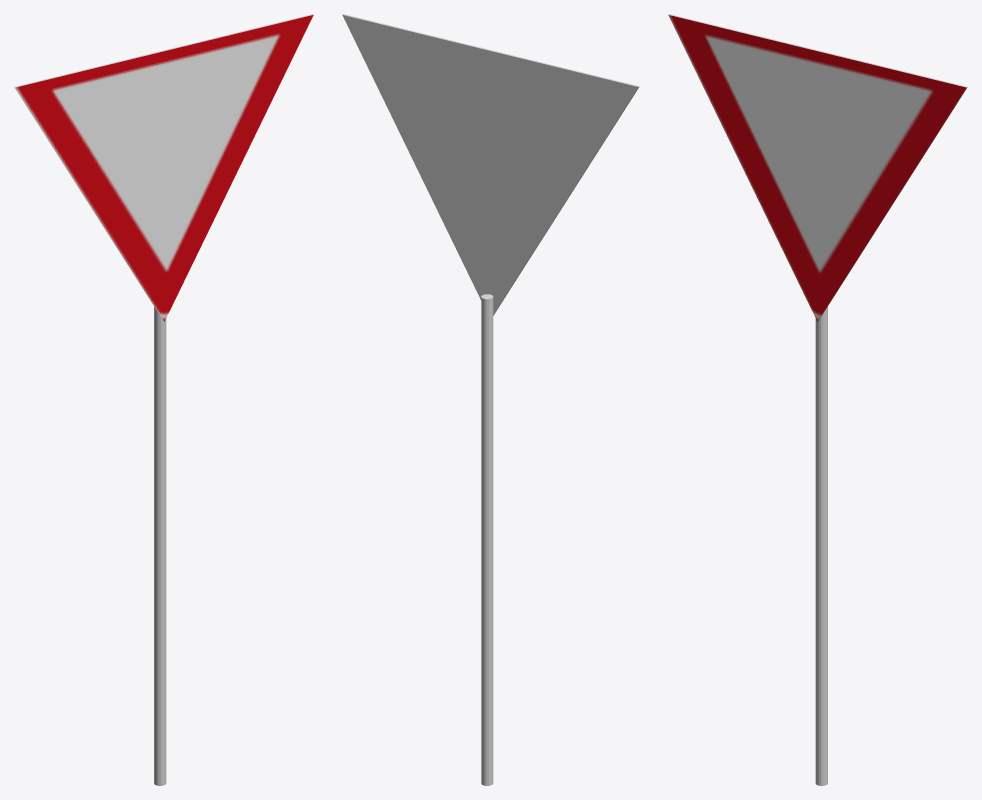
Rendered from yol_ver.fbx.
3 renders of one model, left to right at view 1: azimuth 30°, elevation 25°; view 2: azimuth 150°, elevation 25°; view 3: azimuth 330°, elevation 25°, orthographic.
Parts seen in each view (by area): view 1: yol_ver; view 2: yol_ver; view 3: yol_ver.
Part boxes in pixels (box(x1,y1,x2,y2)): yol_ver: box(14, 14, 313, 785); yol_ver: box(342, 14, 639, 785); yol_ver: box(668, 14, 967, 785).
Size of the model in its own units: 140 by 330 by 5.97.
Materials: 2 (1 with a texture image).
